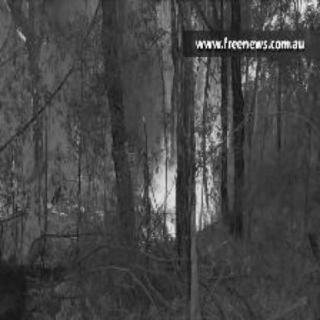Fire: (130, 79, 224, 240)
